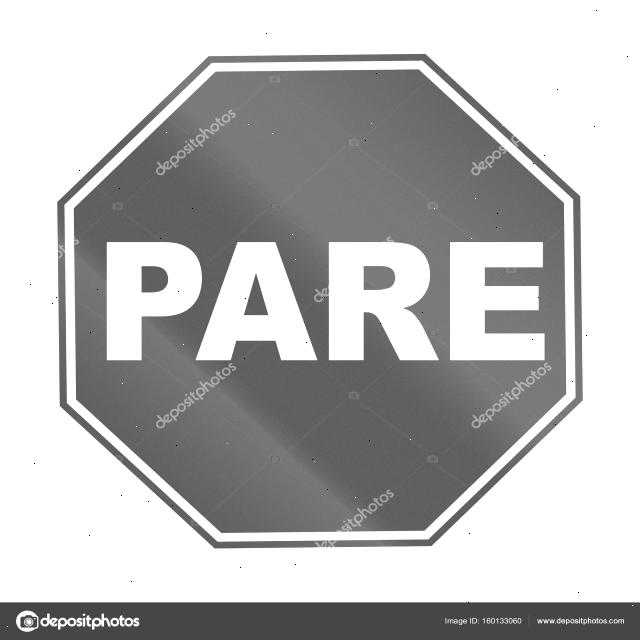Stop-sign: (33, 33, 600, 558)
